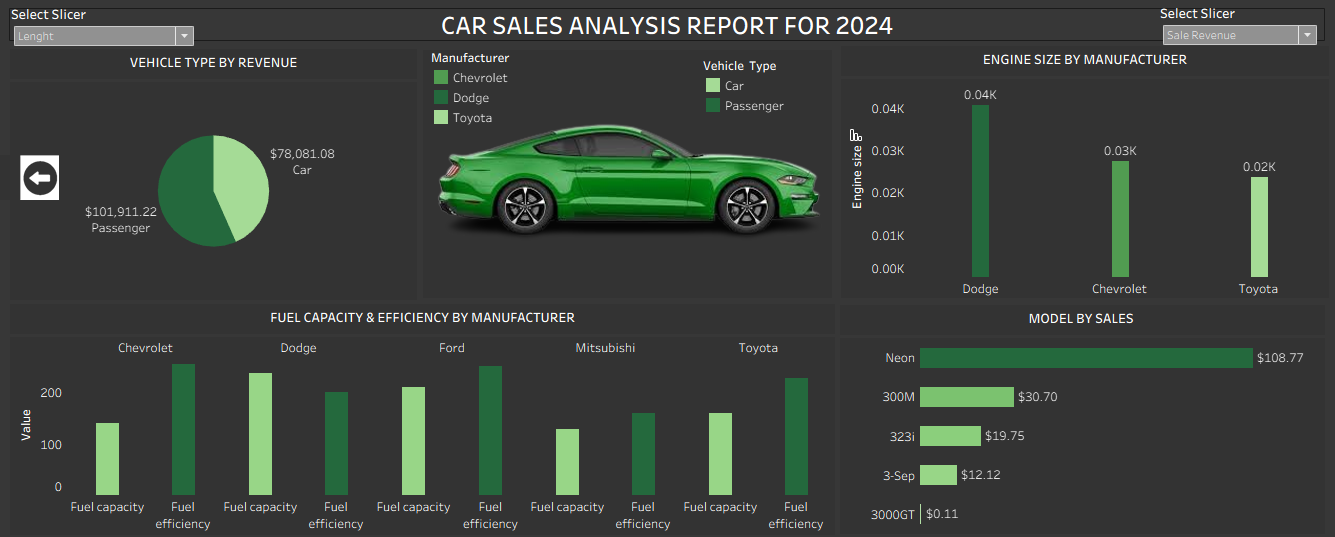

What the dashboard file says about the page in this screenshot:
{"tool":"tableau","page":{"name":"DASHBOARD 2","canvas":[1000,1000],"units":"permille","ordinal":1},"visuals":[{"type":"title","box":[6,14.7,988.1,75.4]},{"type":"parameter","param":"[Parameters].[Parameter 1]","box":[867.9,14.7,119.4,80.9]},{"type":"parameter","param":"[Parameters].[Parameter 2]","box":[10.4,16.5,138.5,80.9]},{"type":"worksheet","title":"Sheet 9","mark":"Automatic","box":[6,90.1,868.7,895.2]},{"type":"worksheet","title":"ENGINE SIZE BY MANUFACTURER","mark":"Automatic","rows":["Engine_size"],"cols":["Manufacturer"],"box":[629.9,91.9,364.2,463.2]},{"type":"worksheet","title":"VEHICLE TYPE BY REVENUE","mark":"Pie","box":[9.7,97.4,303.7,461.4]},{"type":"legend","title":"ENGINE SIZE BY MANUFACTURER","param":"[federated.0q8nu0v1givuem17rw8a115go641].[none:Manufacturer:nk]","box":[323.9,97.4,70.2,198.5]},{"type":"image","param":"Image/FORD_N3-removebg-preview.png","box":[317.9,99.3,305.2,455.9]},{"type":"legend","title":"VEHICLE TYPE BY REVENUE","param":"[federated.0q8nu0v1givuem17rw8a115go641].[none:Vehicle_type:nk]","box":[526.9,112.1,84.3,106.6]},{"type":"worksheet","title":"FUEL CAPACITY AND EFFICIENCY BY MANUFACTURER ","mark":"Bar","cols":["Manufacturer"],"box":[9.7,566.2,615.7,424.6]},{"type":"worksheet","title":"MODEL BY SALES","mark":"Automatic","rows":["Model"],"cols":["Sales_in_thousands"],"box":[629.1,568,361.9,421]},{"type":"legend","title":"VEHICLE TYPE BY REVENUE","param":"[federated.0q8nu0v1givuem17rw8a115go641].[sum:Calculation_912260427037065216:qk]","box":[682.2,875,121.2,69.9]}]}

Visuals, with their boxes on the dashboard's canvas, which has no fixed pixel size, in thousandths of its width and height (x1, y1, x2, y2). These are canvas units, not pixel positions in the 1335x537 screenshot, which may show the page scaled, cropped or inside an application window:
title: <bbox>6, 15, 994, 90</bbox>
parameter: <bbox>868, 15, 987, 96</bbox>
parameter: <bbox>10, 16, 149, 97</bbox>
"Sheet 9" worksheet: <bbox>6, 90, 875, 985</bbox>
"ENGINE SIZE BY MANUFACTURER" worksheet: <bbox>630, 92, 994, 555</bbox>
"VEHICLE TYPE BY REVENUE" worksheet (Pie marks): <bbox>10, 97, 313, 559</bbox>
"ENGINE SIZE BY MANUFACTURER" legend: <bbox>324, 97, 394, 296</bbox>
image: <bbox>318, 99, 623, 555</bbox>
"VEHICLE TYPE BY REVENUE" legend: <bbox>527, 112, 611, 219</bbox>
"FUEL CAPACITY AND EFFICIENCY BY MANUFACTURER " worksheet (Bar marks): <bbox>10, 566, 625, 991</bbox>
"MODEL BY SALES" worksheet: <bbox>629, 568, 991, 989</bbox>
"VEHICLE TYPE BY REVENUE" legend: <bbox>682, 875, 803, 945</bbox>
